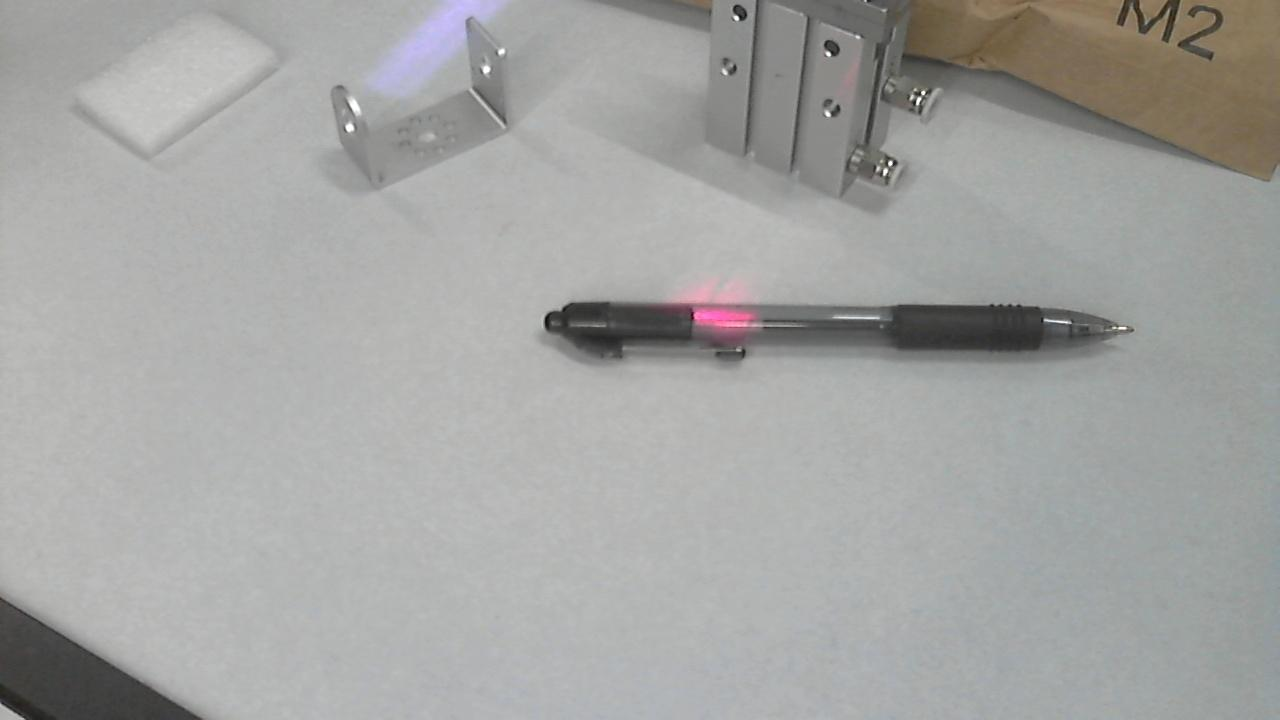Object retractable gel pen - Material plastic- Pdfname asdasdaswe: (649, 284, 771, 346)
